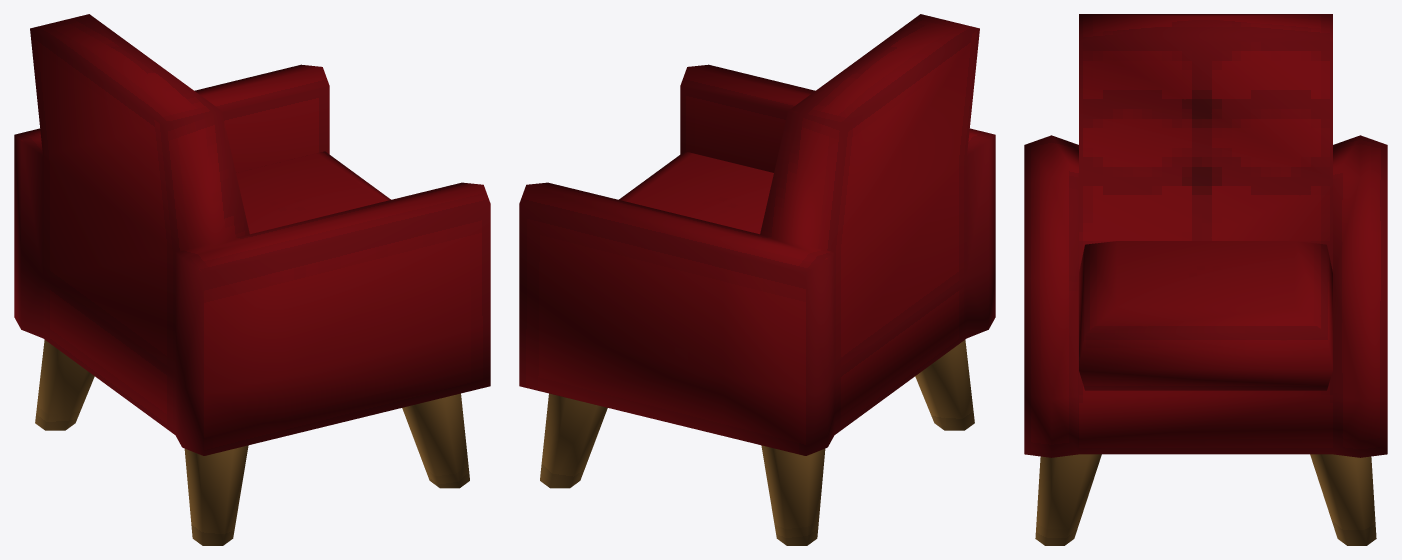
File: armchair_lowpoly.glb
3 renders of one model, left to right at view 1: azimuth 30°, elevation 25°; view 2: azimuth 150°, elevation 25°; view 3: azimuth 270°, elevation 25°, orthographic. The views are drawn at different scales.
Visible parts, largest first — view 1: Cube; view 2: Cube; view 3: Cube.
Boxes of the visible parts, <box> form: Cube: <box>14,14,490,545</box>; Cube: <box>519,14,995,545</box>; Cube: <box>1024,14,1387,545</box>.
Bounding box in the file's own units: 5.22 × 6.9 × 5.59.
1 material, 1 textured.
